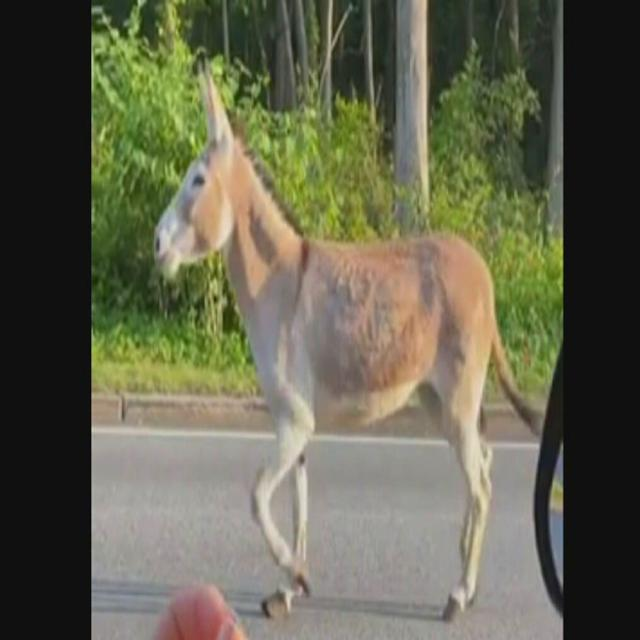donkey: (154, 64, 540, 619)
